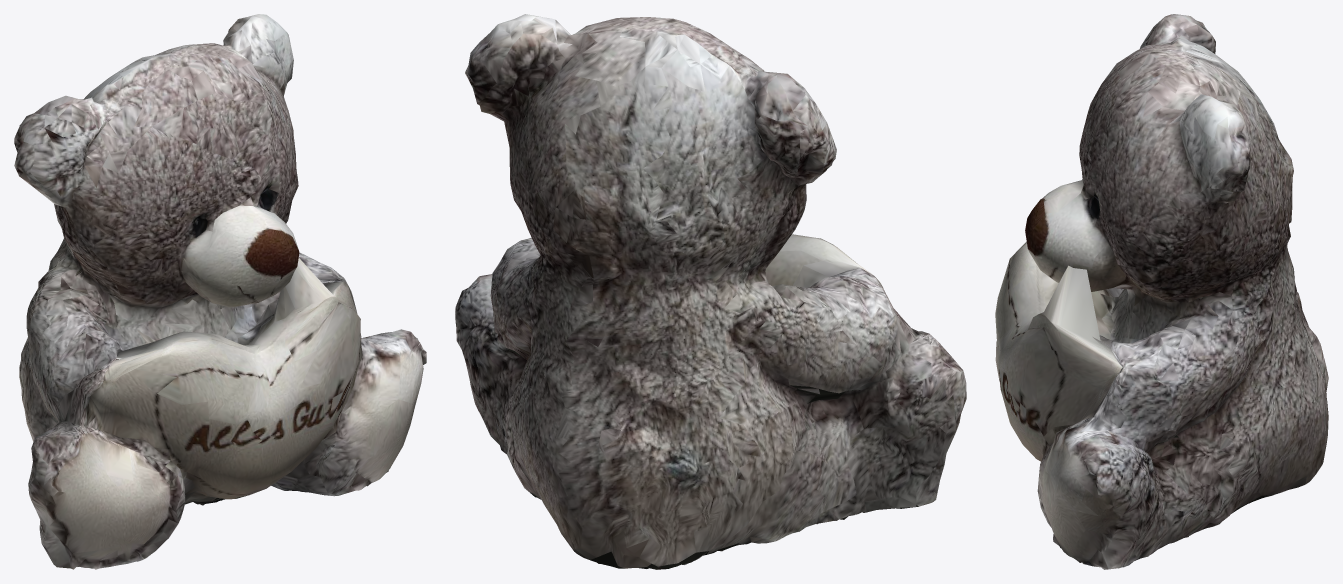
Rendered from allesgutebaer.glb.
The picture shows the model from 3 angles, left to right: view 1: azimuth 30°, elevation 25°; view 2: azimuth 150°, elevation 25°; view 3: azimuth 270°, elevation 25°; orthographic projection. The views are drawn at different scales.
Visible parts, largest first — view 1: 04_baer.001; view 2: 04_baer.001; view 3: 04_baer.001.
Part boxes in pixels (box(x1,y1,x2,y2)): 04_baer.001: box(14, 14, 426, 569); 04_baer.001: box(455, 14, 966, 569); 04_baer.001: box(995, 14, 1328, 569).
Bounding box in the file's own units: 1.47 × 1.41 × 0.9895.
Materials: 2 (2 with a texture image).
